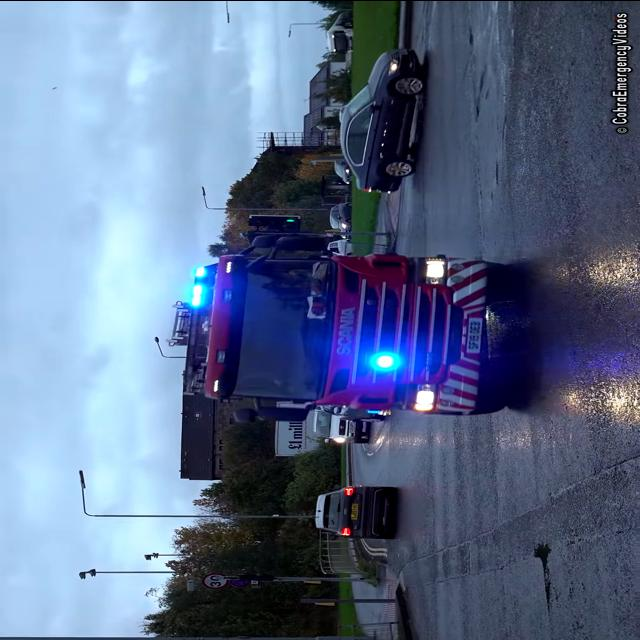emergency-vehicles: (178, 216, 520, 430)
